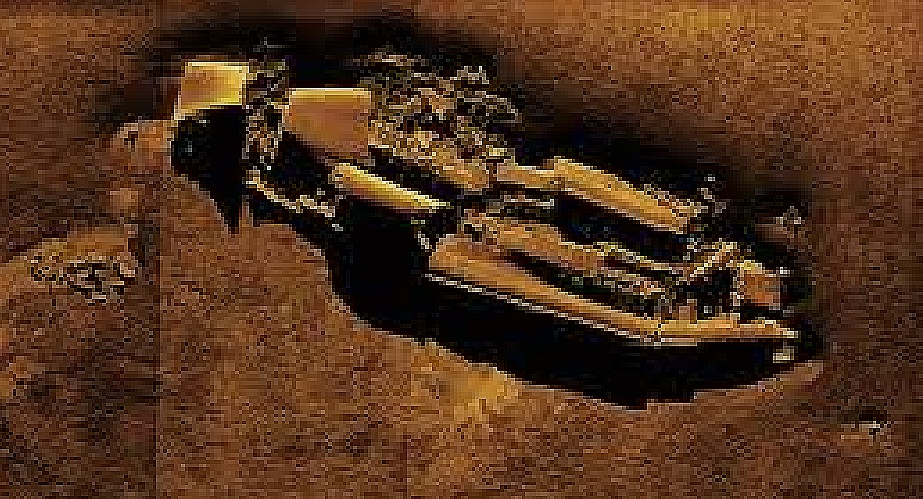ship: (169, 36, 803, 362)
